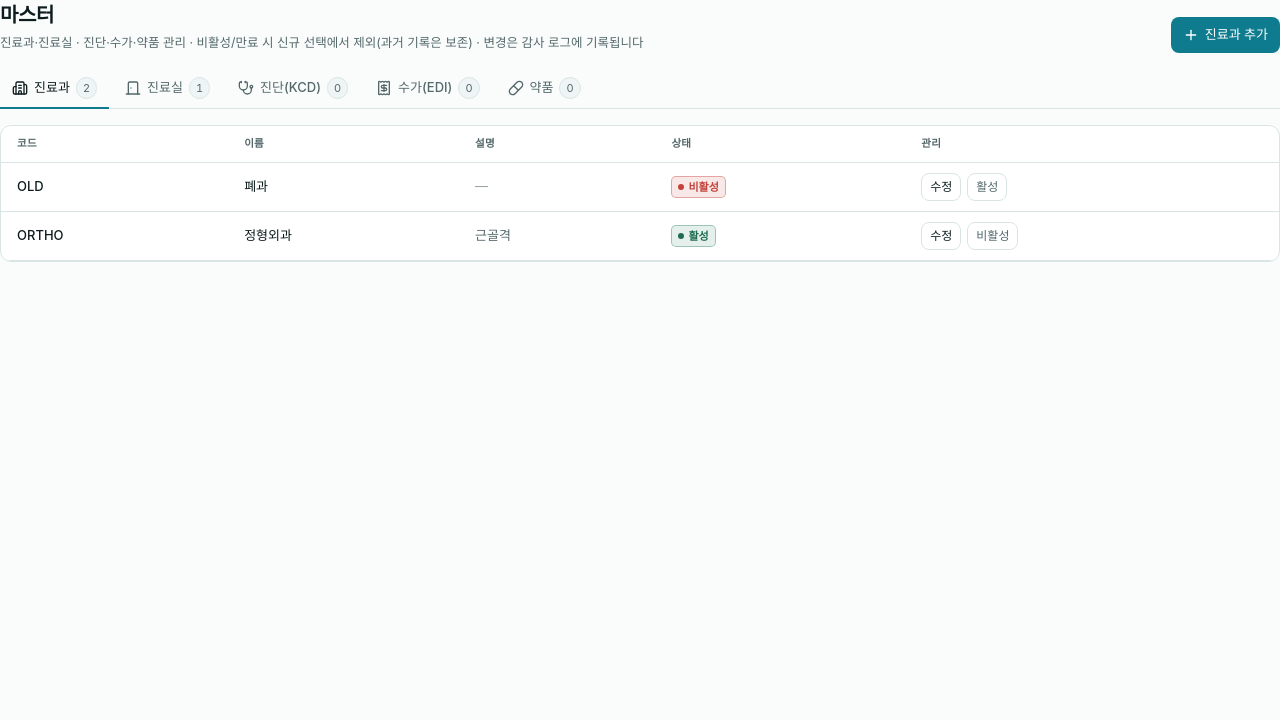
MastersManager › 진료과 비활성 — 참조 진료실·직원 카운트를 경고에 표시(AC4)
What coordinates should you click on to do the following:
click the button "비활성"
I would click on:
 (993, 236)
Its box is [967, 222, 1018, 250].
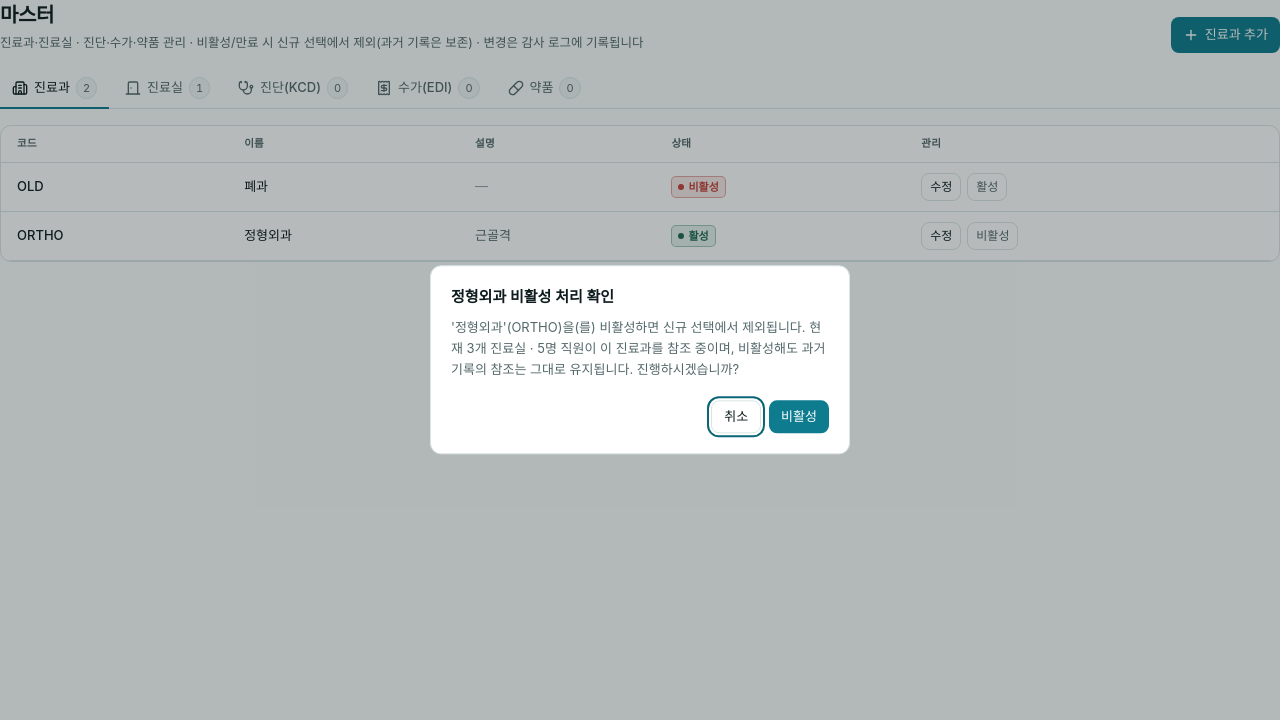
Now the text "3개 진료실 · 5명 직원" is shown, box [451, 319, 825, 377]
